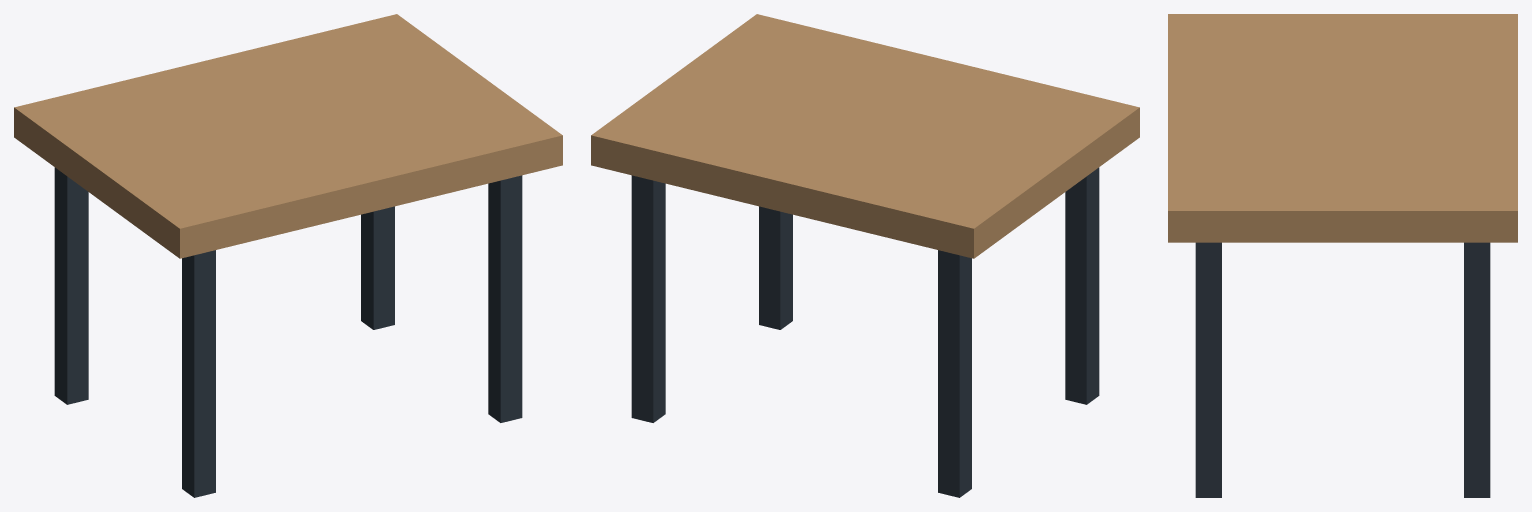
The model's file is side-table.glb.
The picture shows the model from 3 angles, left to right: view 1: azimuth 30°, elevation 25°; view 2: azimuth 150°, elevation 25°; view 3: azimuth 270°, elevation 25°; orthographic projection. The views are drawn at different scales.
Visible parts, largest first — view 1: side-table; view 2: side-table; view 3: side-table.
Part boxes in pixels (<box>): side-table: <box>14,14,562,497</box>; side-table: <box>591,14,1139,497</box>; side-table: <box>1168,14,1517,497</box>.
Bounding box in the file's own units: 0.8 × 0.57 × 0.6.
